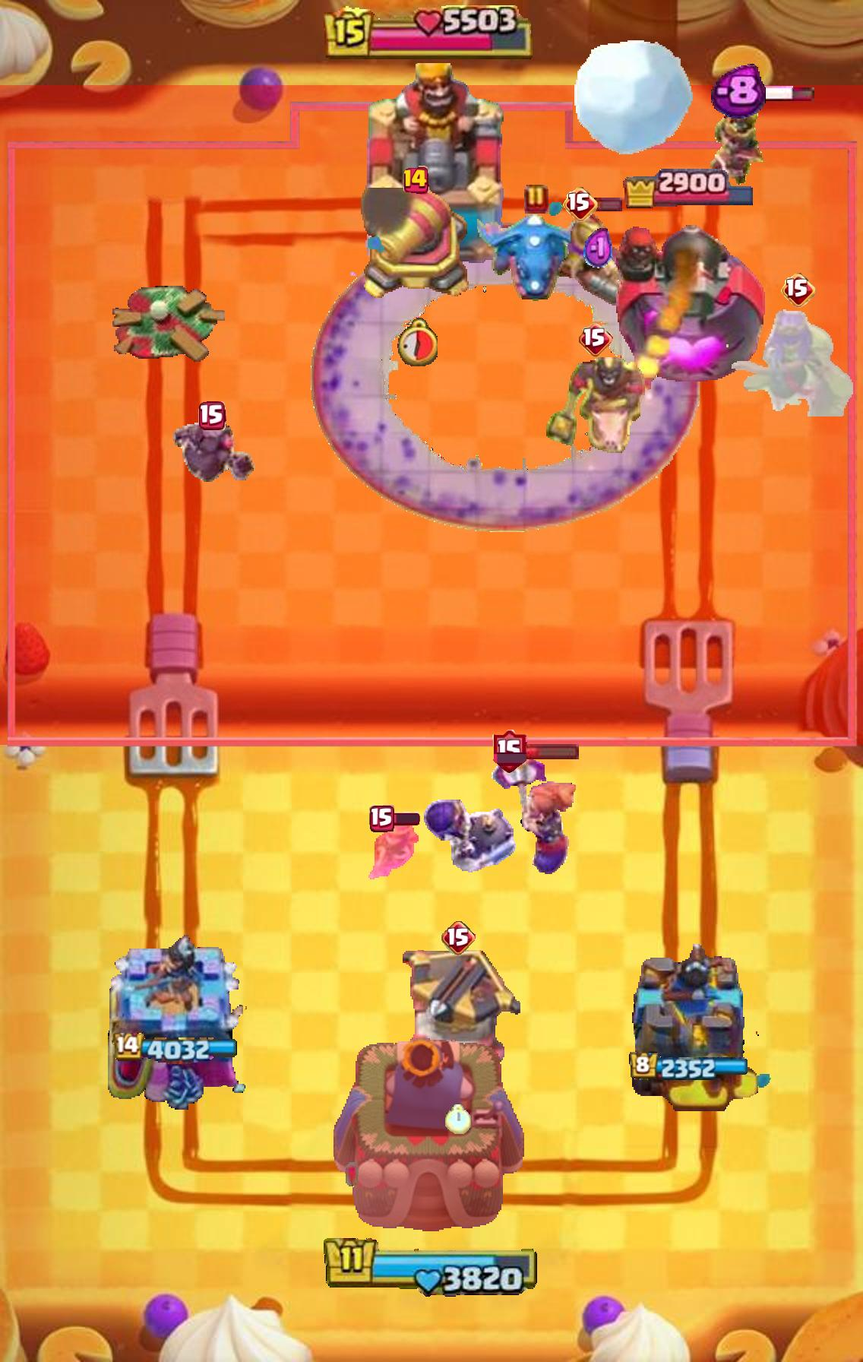bar: (732, 84, 815, 103), (523, 743, 580, 760), (594, 197, 623, 212), (391, 812, 420, 827)
bar-level: (492, 730, 527, 774), (563, 187, 598, 222), (781, 273, 816, 308), (578, 322, 613, 357), (442, 921, 476, 955), (199, 401, 227, 430), (403, 166, 429, 195), (524, 184, 548, 214), (369, 805, 394, 832)
